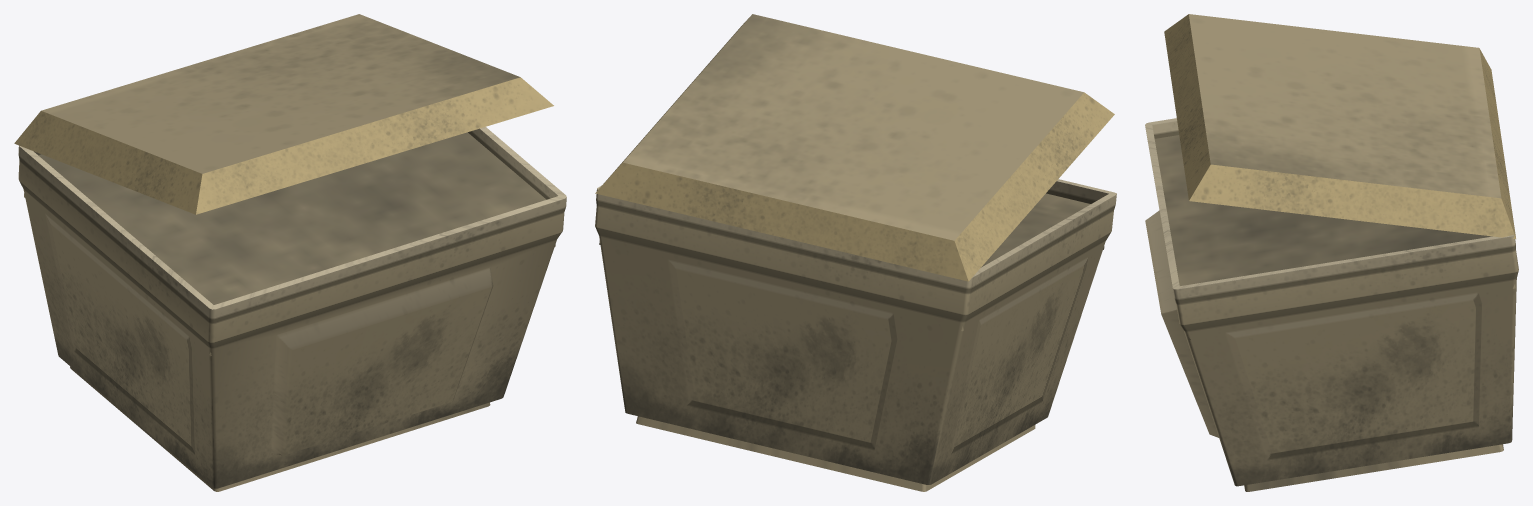
The model's file is TrashBin.fbx.
The picture shows the model from 3 angles, left to right: view 1: azimuth 30°, elevation 25°; view 2: azimuth 150°, elevation 25°; view 3: azimuth 270°, elevation 25°; orthographic projection. The views are drawn at different scales.
Visible parts, largest first — view 1: pCube190; view 2: pCube190; view 3: pCube190.
Part boxes in pixels (x1,y1,x2,y2): pCube190: [14, 14, 566, 491]; pCube190: [595, 14, 1116, 491]; pCube190: [1145, 14, 1518, 491].
Size of the model in its own units: 164 by 138 by 137.
